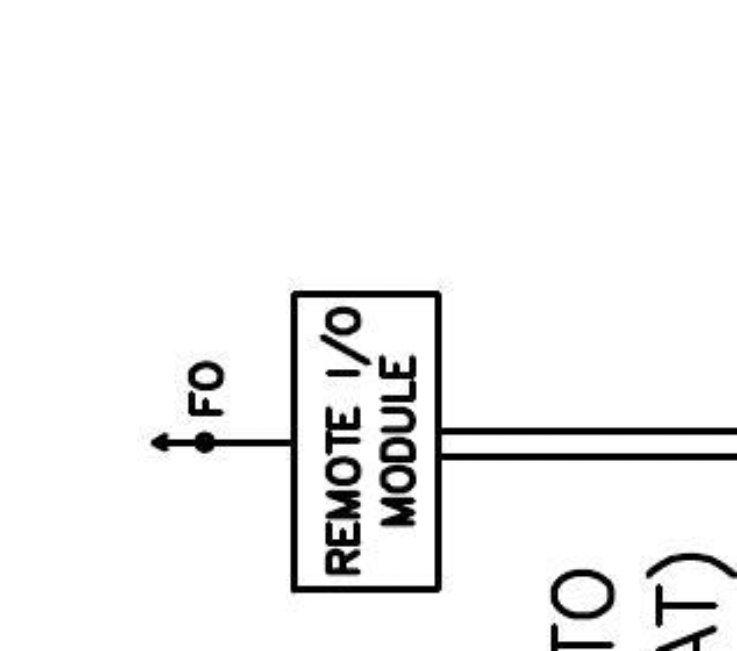remote_io_module: (290, 290, 442, 594)
